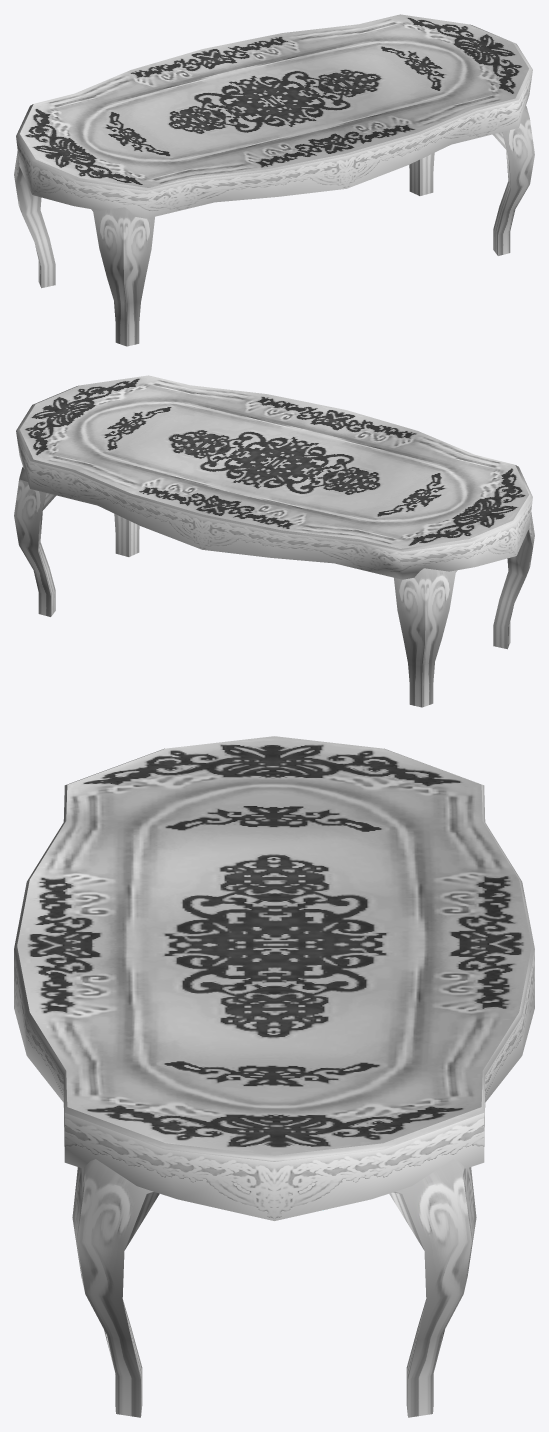
The model's file is NienteDiningTable_HD.fbx.
The picture shows the model from 3 angles, top to bottom: view 1: azimuth 30°, elevation 25°; view 2: azimuth 150°, elevation 25°; view 3: azimuth 270°, elevation 25°; orthographic projection. The views are drawn at different scales.
Parts seen in each view (by area): view 1: NienteDiningTable; view 2: NienteDiningTable; view 3: NienteDiningTable.
Boxes of the visible parts, box(x1,y1,x2,y2) form: NienteDiningTable: box(14, 14, 534, 346); NienteDiningTable: box(14, 375, 534, 707); NienteDiningTable: box(14, 736, 534, 1417).
Bounding box in the file's own units: 1.84 × 0.6024 × 0.9495.
